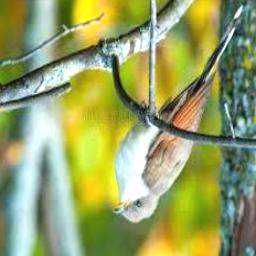Cuckoo: (113, 6, 245, 224)
